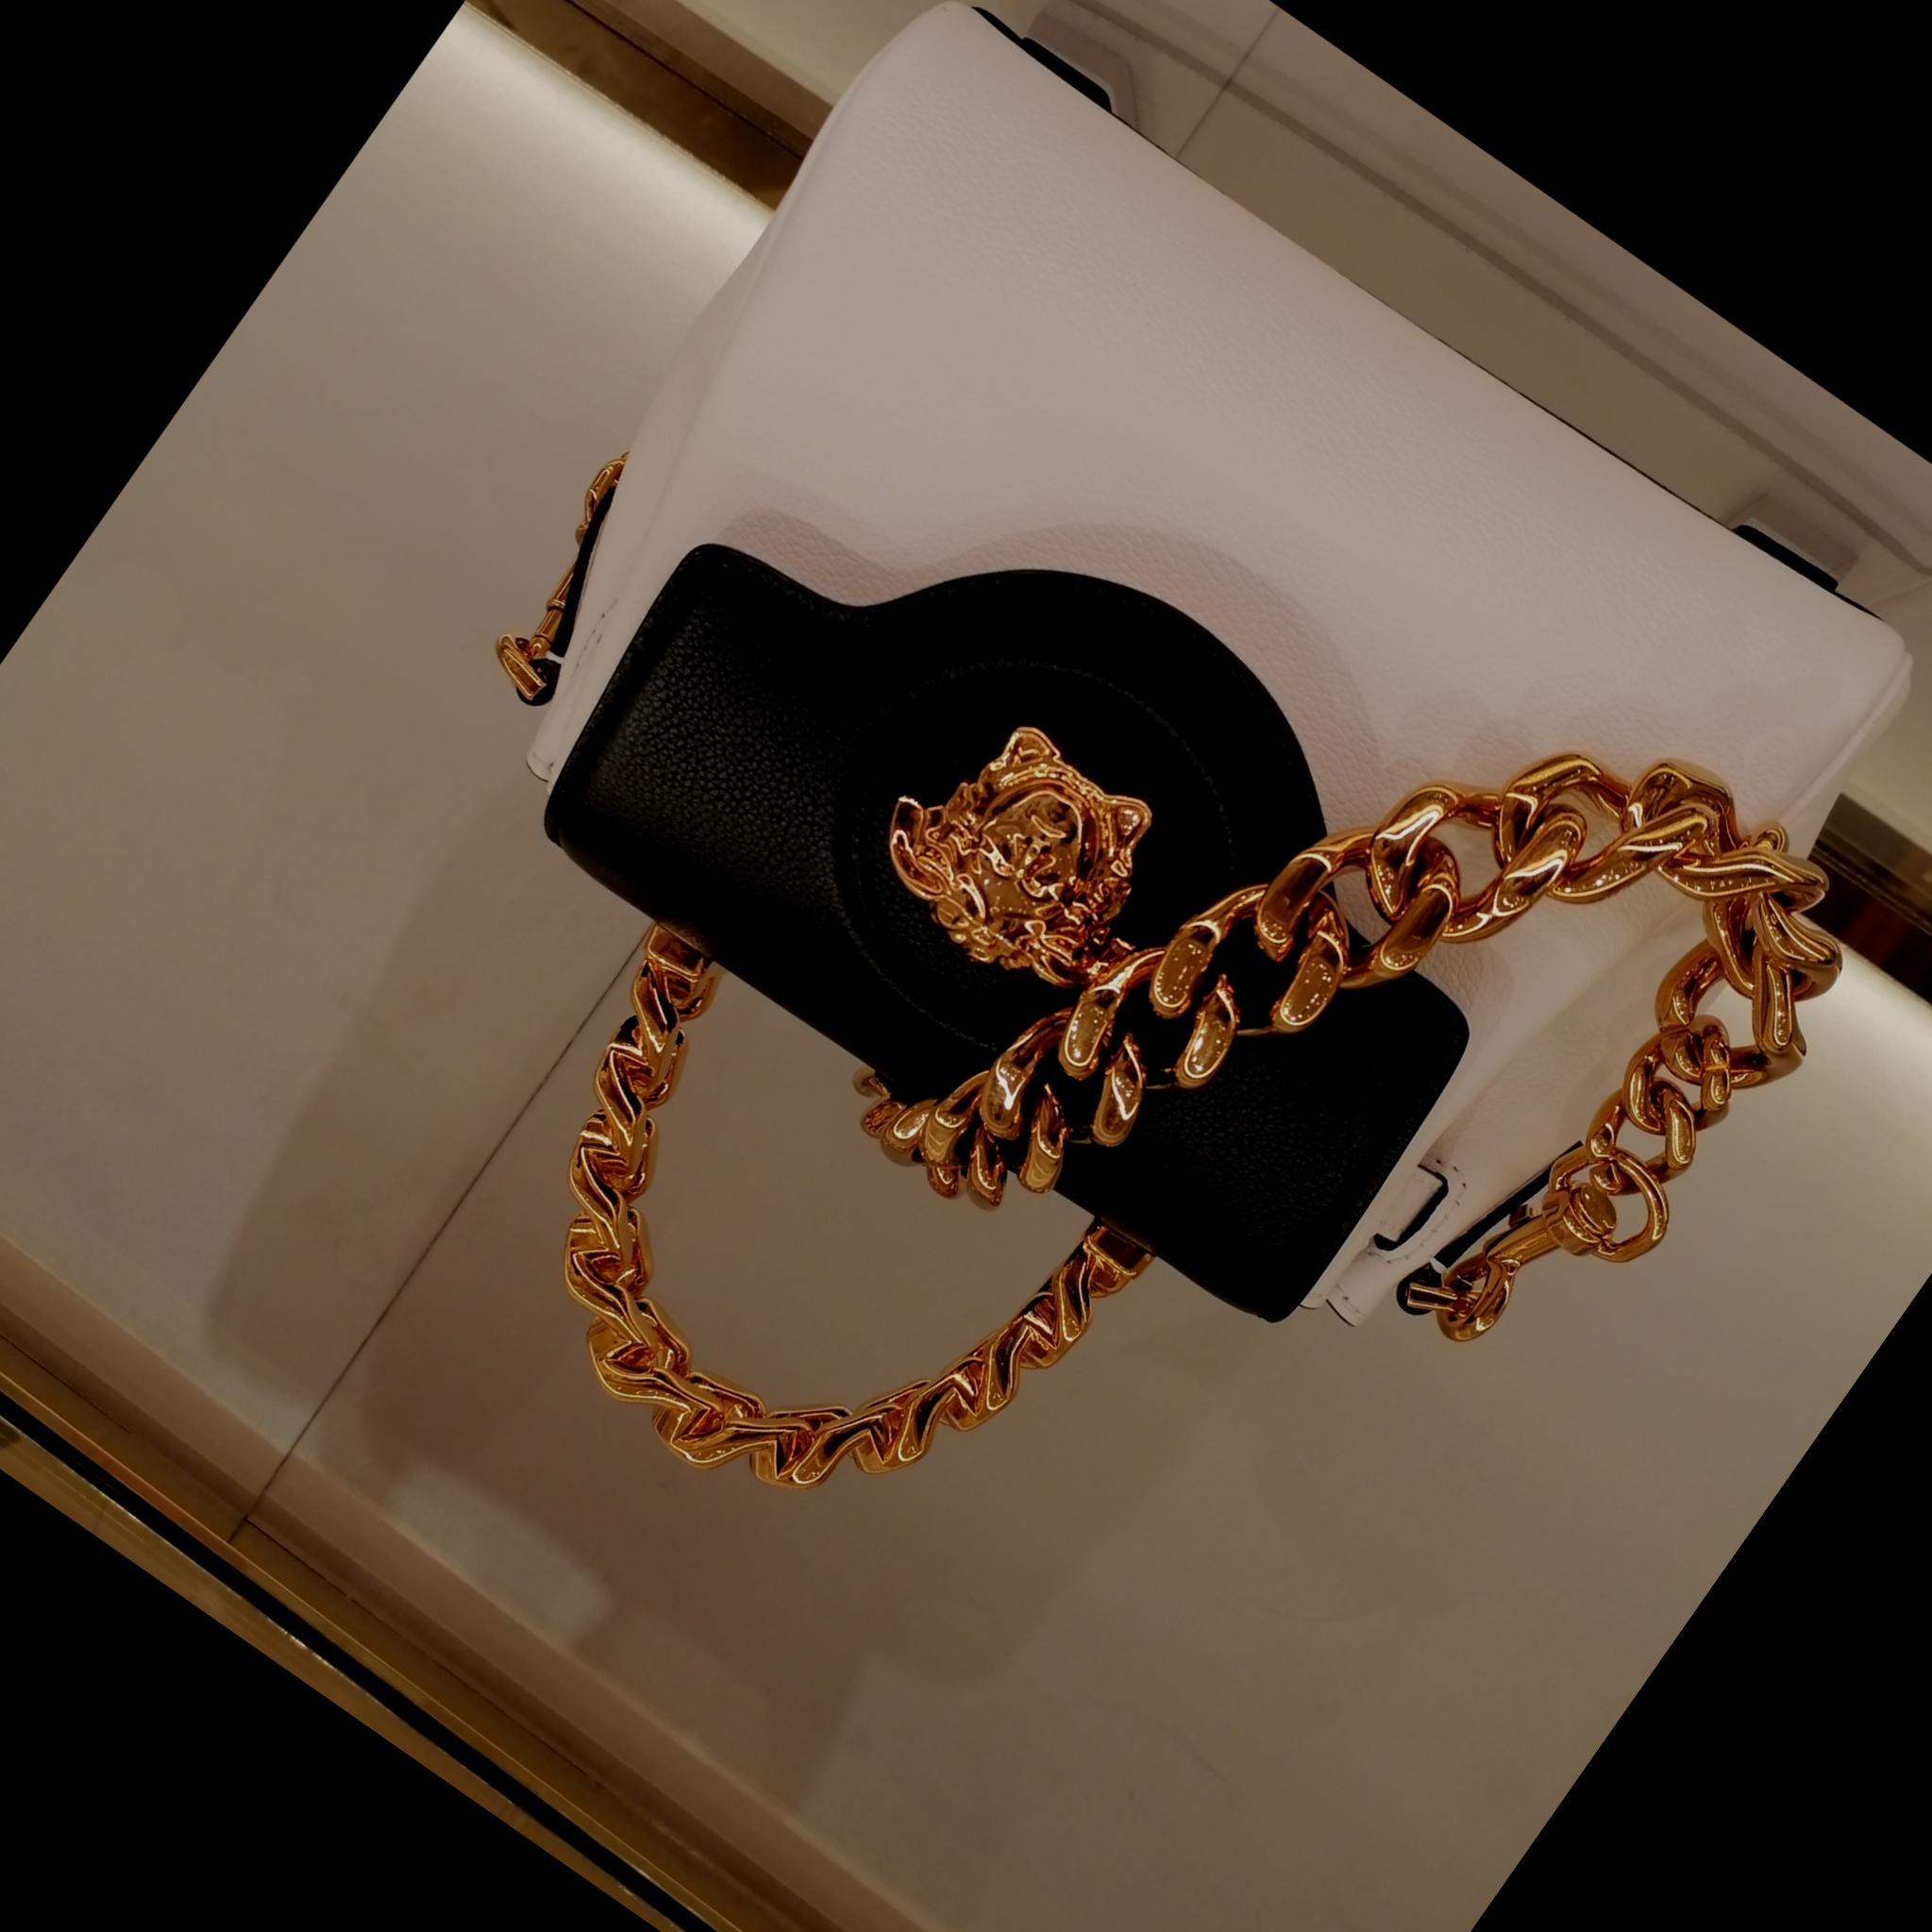VERSACE: (750, 575, 1290, 1115)
